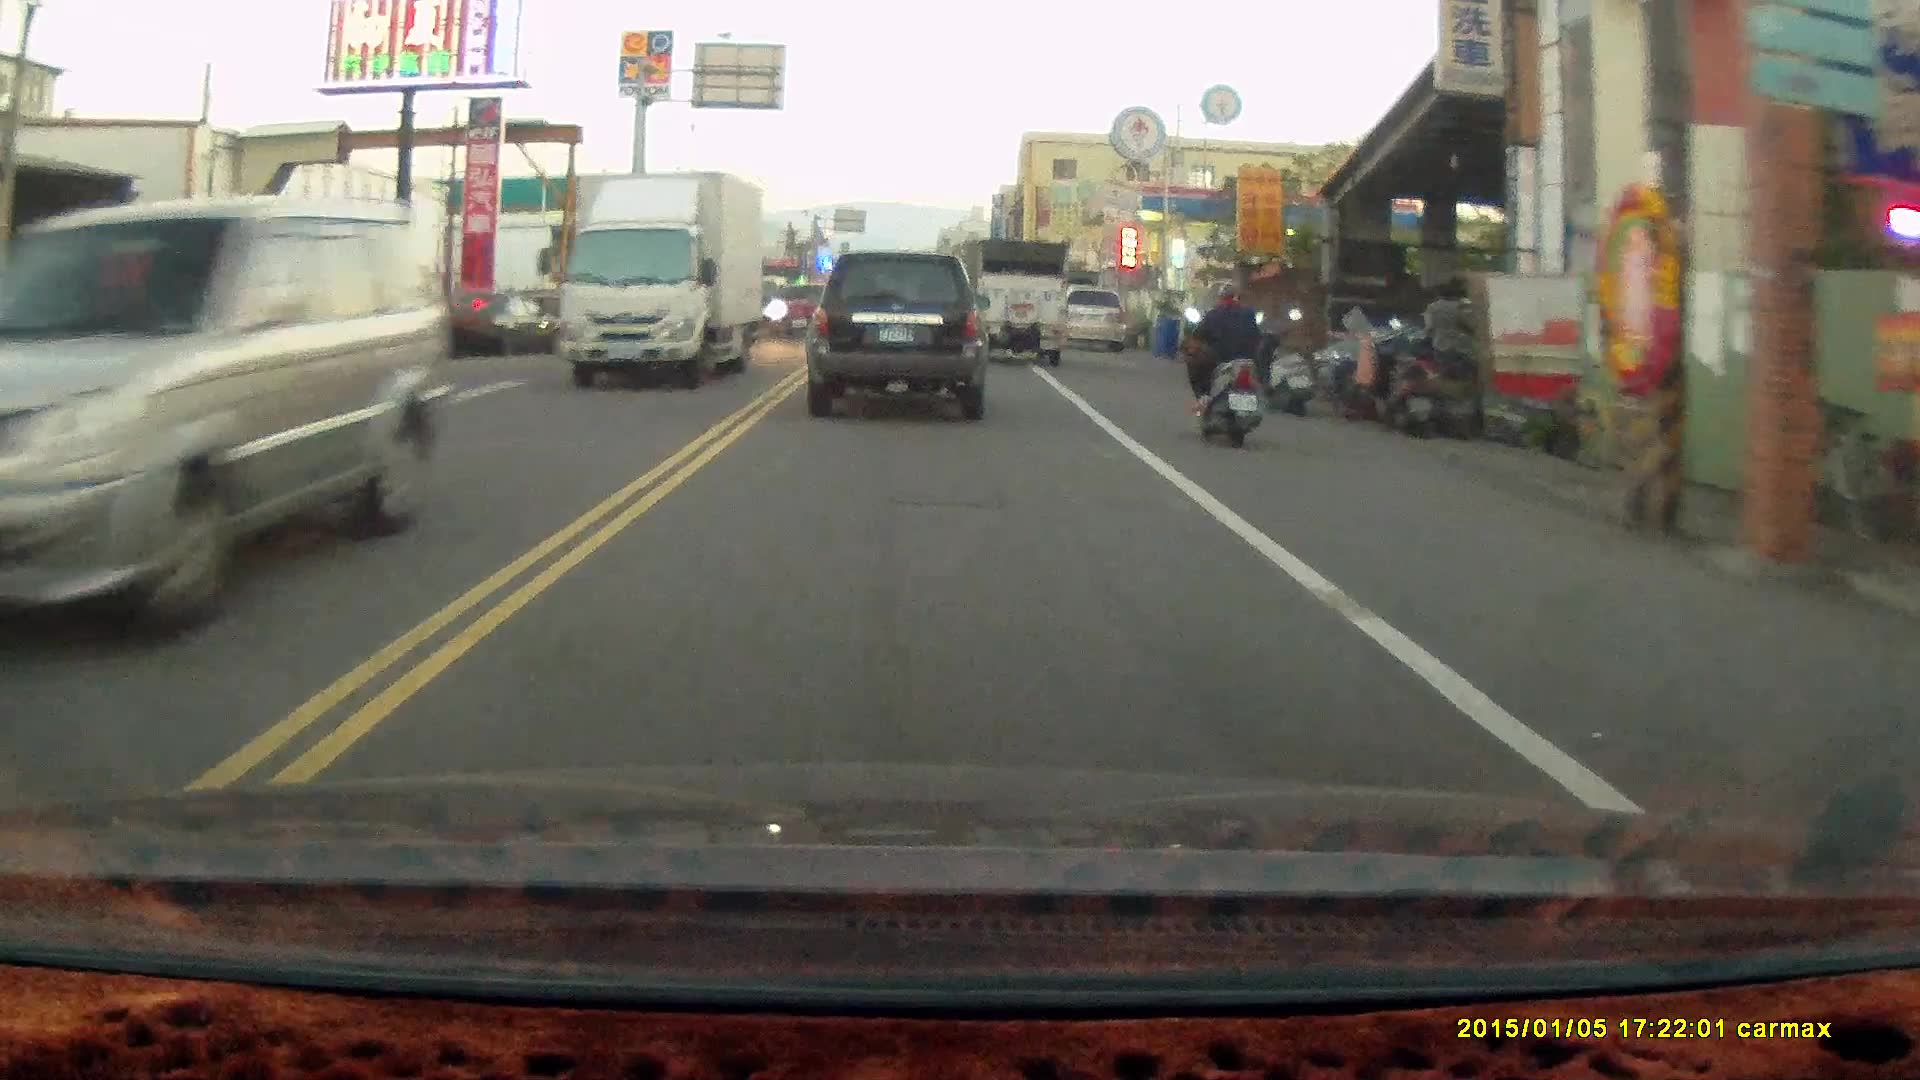pedestrian: (1420, 284, 1466, 413)
rider: (1179, 279, 1266, 450)
vehicle: (1, 195, 477, 614), (557, 171, 769, 392), (802, 250, 991, 424), (976, 237, 1069, 366)
